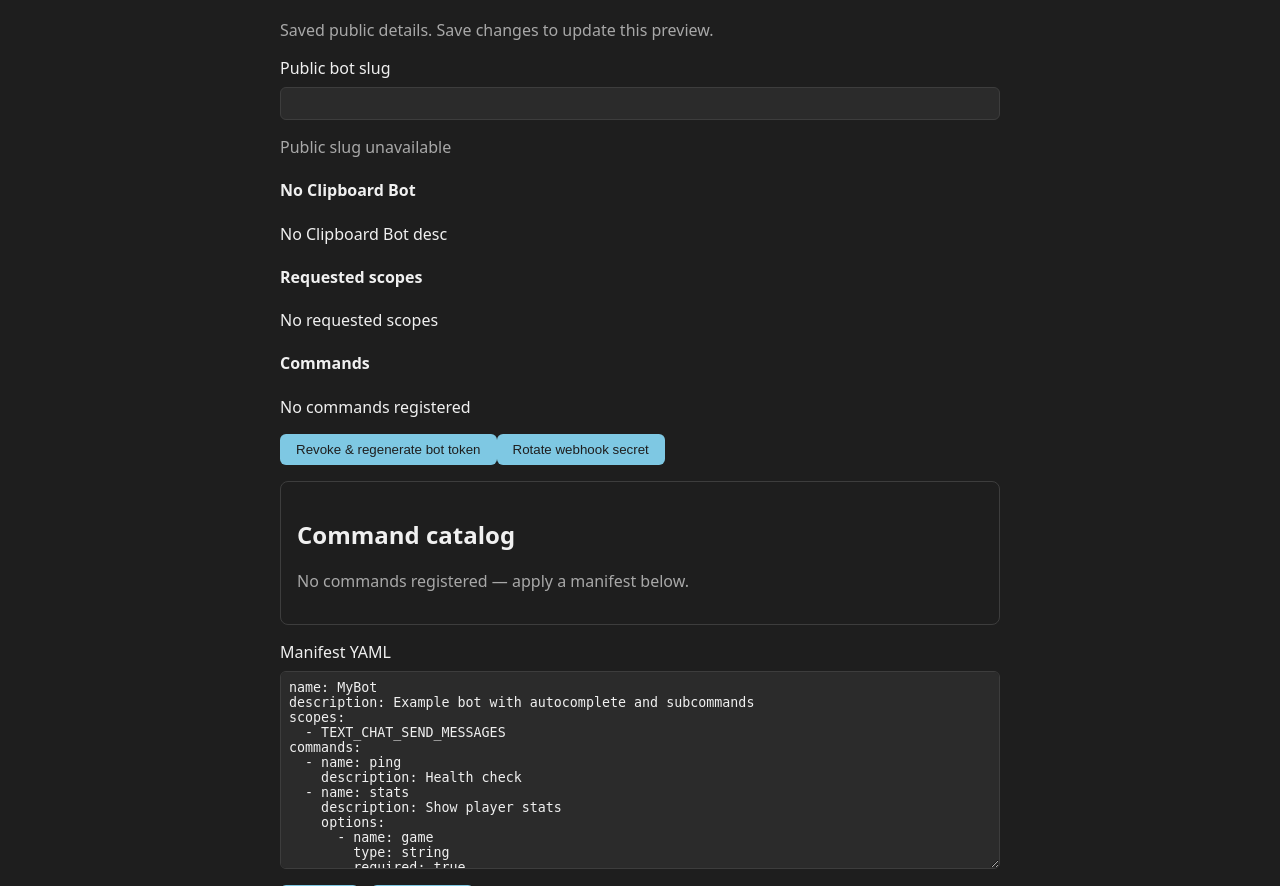
Test: App bot registration and selection › keeps a one-shot secret visible and explains when Clipboard API is unavailable
(page scrolled)
Click the button "Revoke & regenerate bot token" at [388, 449], box [280,434,496,465]
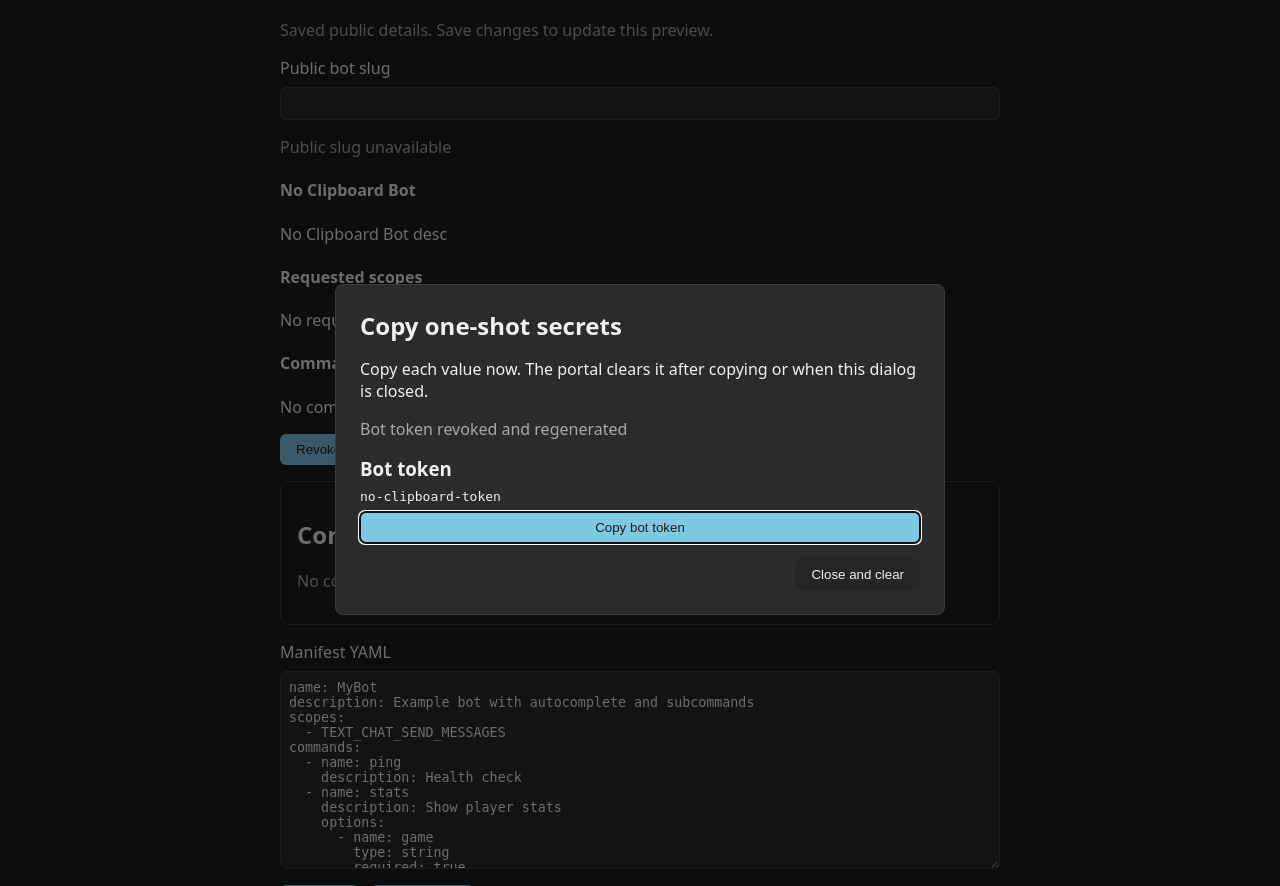
Click the button "Copy bot token" at [640, 527], box [360,512,920,542]
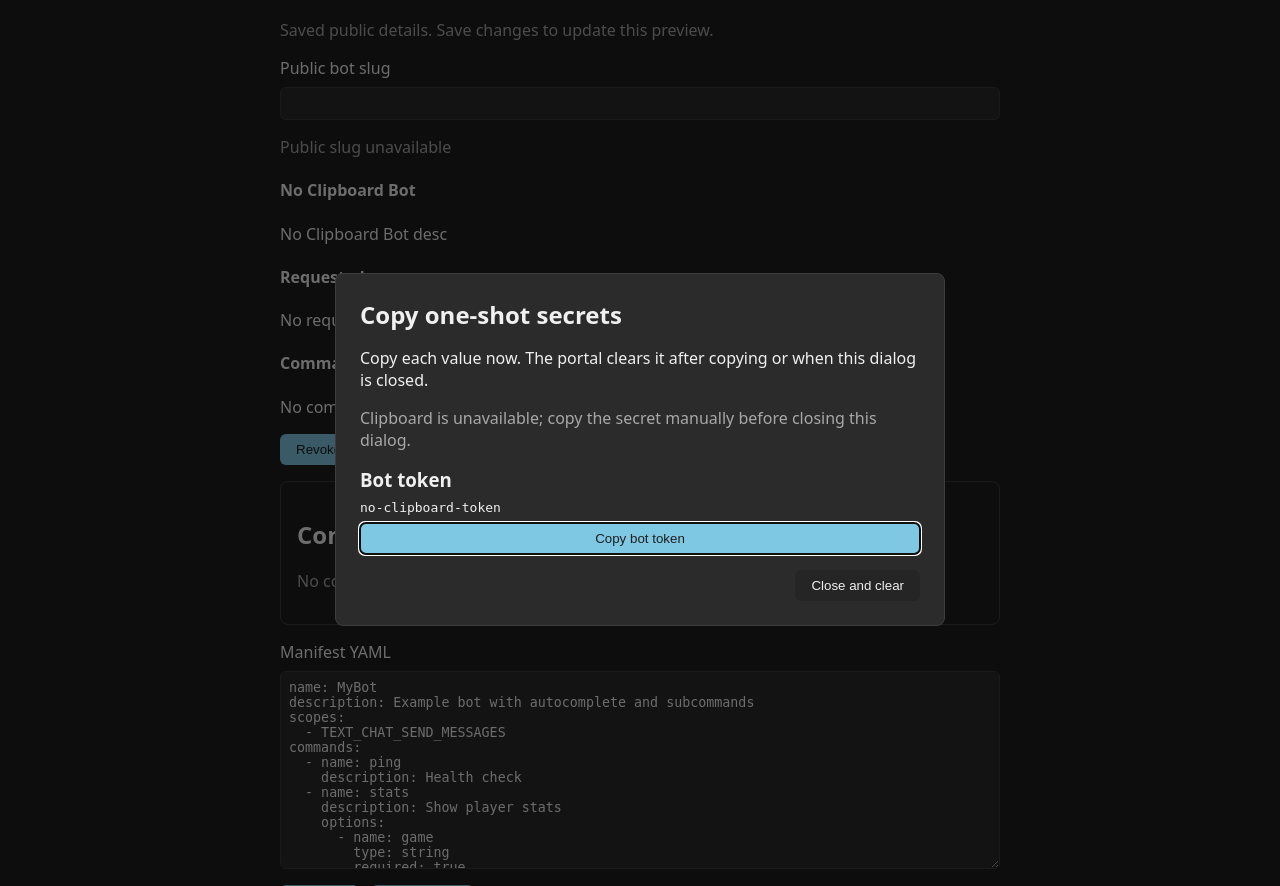
Now the dialog "Copy one-shot secrets" shows "no-clipboard-token", box [360,500,501,514]
Now the message reads "Clipboard is unavailable; copy the secret manually before closing this dialog.", box [360,406,876,450]
